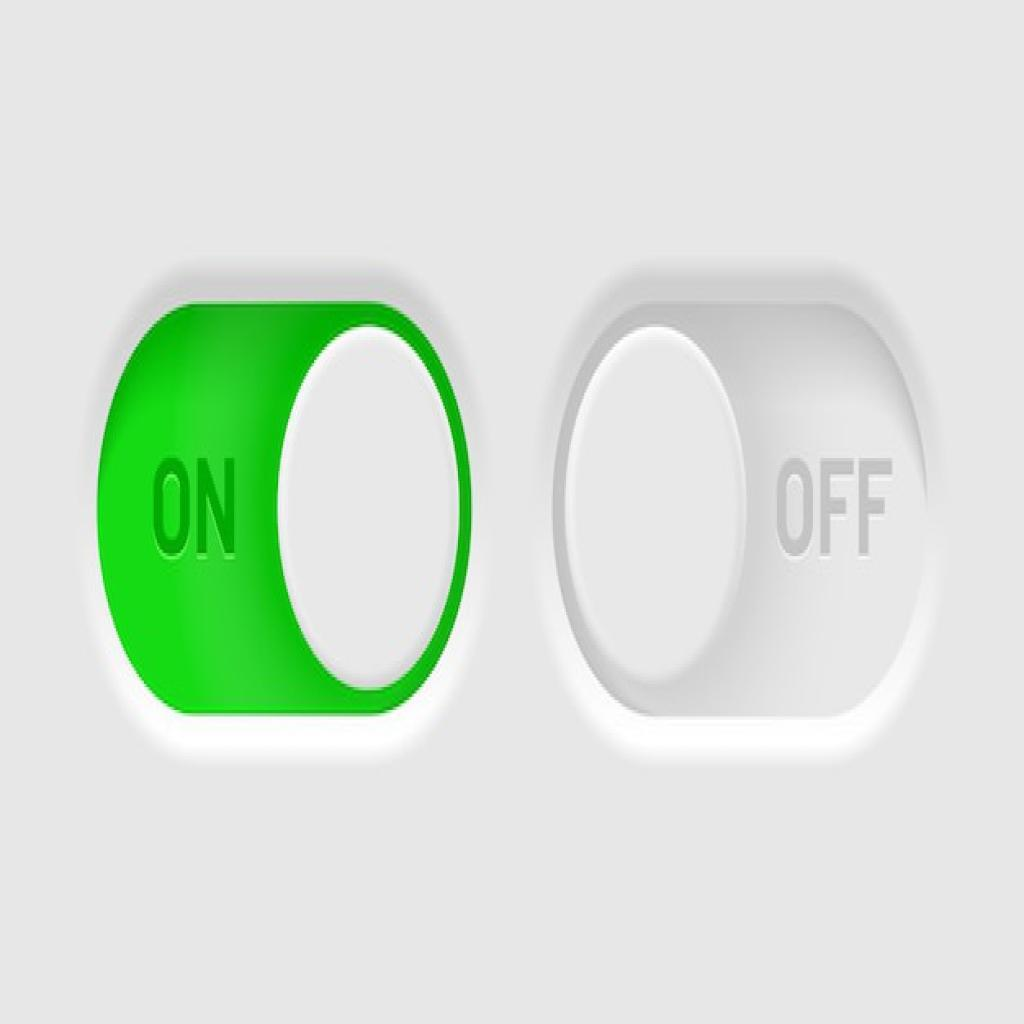switch: (549, 303, 930, 724), (96, 306, 474, 713)
